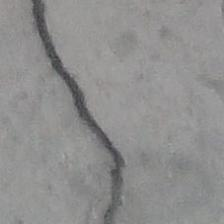Crack: (25, 0, 133, 224)
